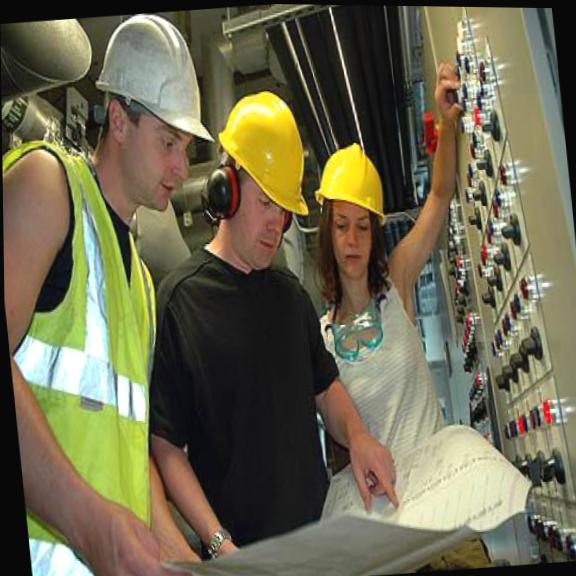safety_vest: (2, 124, 186, 576)
